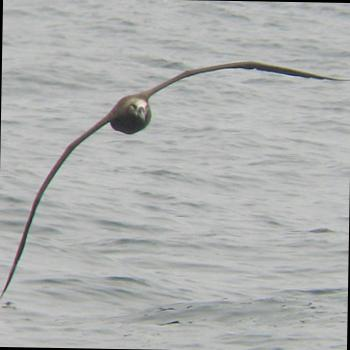bird: (0, 51, 349, 307)
